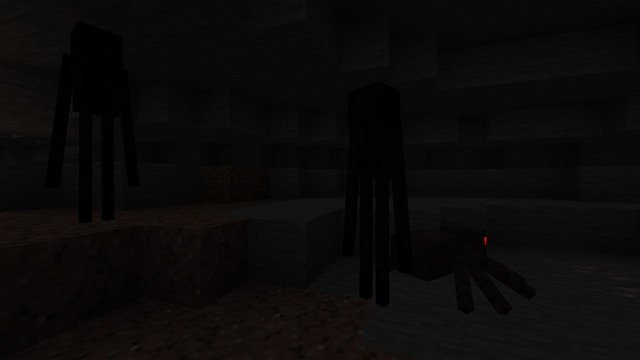araignees: (402, 217, 516, 311)
endermens: (59, 12, 130, 224), (346, 73, 397, 315)
